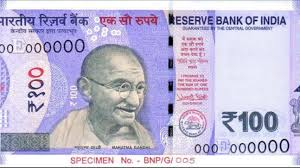hundred: (3, 34, 293, 141)
